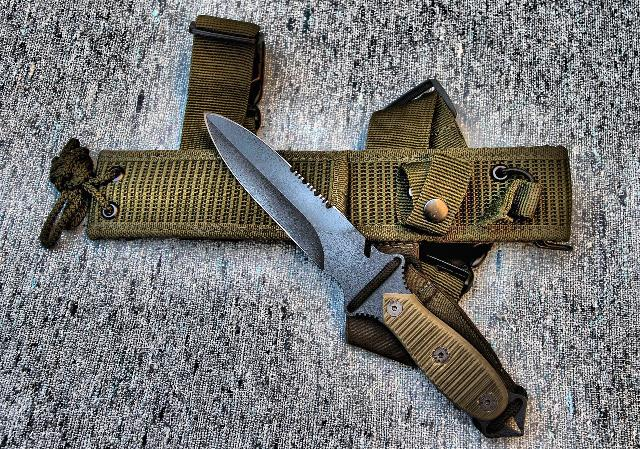knife: (196, 104, 400, 314)
